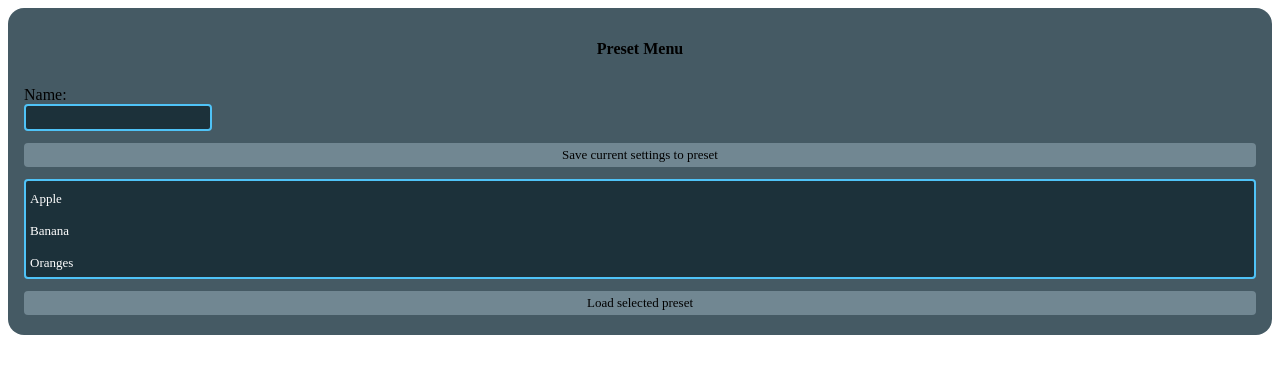
it: PresetListItem › should disallow invalid new preset names for case insensitive systems
The image size is (1280, 376).
Type "CON" into the field named "Preset Name" at [118, 118], box 24,104 -> 212,131
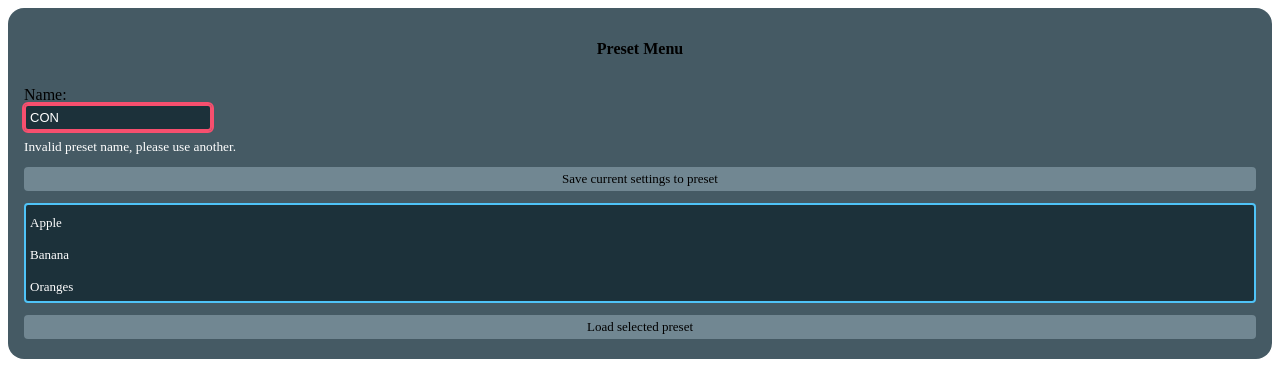
Expected: the text "Invalid preset name, please use another." is shown, 24,139 -> 236,154
Replace the text in the field named "Preset Name" with "apple" at [118, 118], box 24,104 -> 212,131
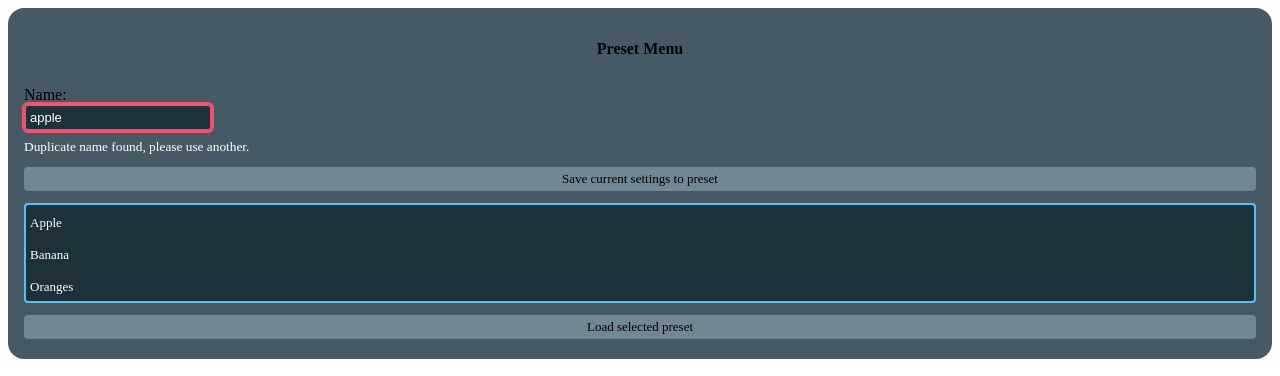
Expected: the text "Duplicate name found, please use another." is shown, 24,139 -> 249,154
